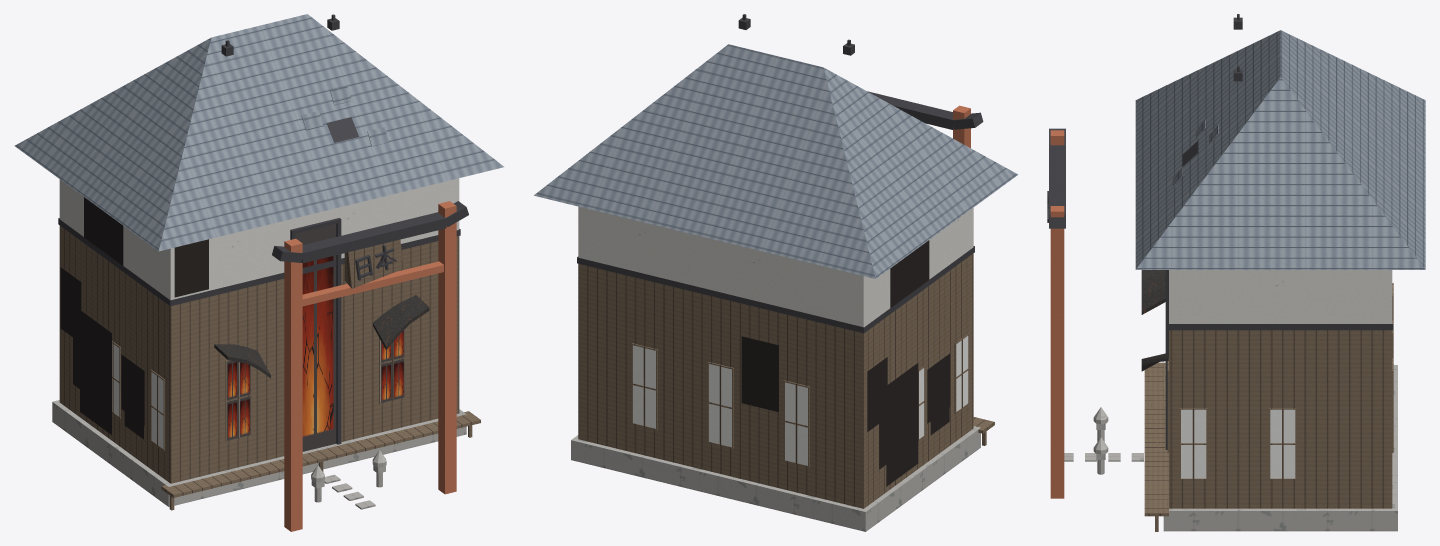
File: Story11_日本_화남.fbx
3 renders of one model, left to right at view 1: azimuth 30°, elevation 25°; view 2: azimuth 150°, elevation 25°; view 3: azimuth 270°, elevation 25°, orthographic.
Visible parts, largest first — view 1: Story11_日本_화남; view 2: Story11_日本_화남; view 3: Story11_日本_화남.
Part boxes in pixels (x1,y1,x2,y2): Story11_日本_화남: [14, 14, 503, 531]; Story11_日本_화남: [534, 14, 1018, 531]; Story11_日本_화남: [1047, 14, 1425, 531].
Bounding box in the file's own units: 3600 × 4130 × 3392.
10 materials, 10 textured.
